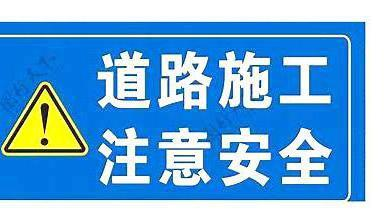sign: (1, 30, 358, 199)
